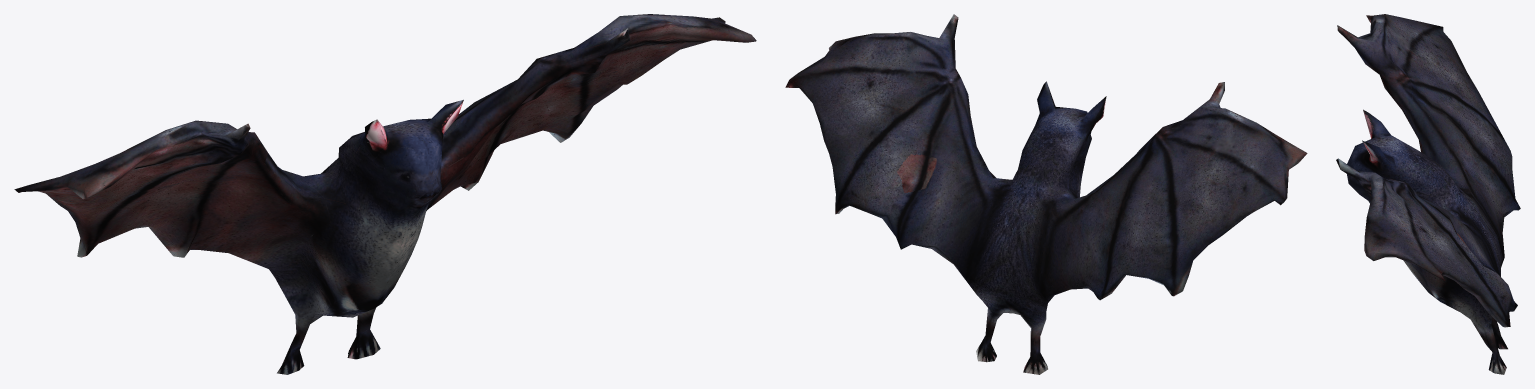
The model's file is uploads_files_5014825_Bat_Low_Poly.fbx.
The picture shows the model from 3 angles, left to right: view 1: azimuth 30°, elevation 25°; view 2: azimuth 150°, elevation 25°; view 3: azimuth 270°, elevation 25°; orthographic projection. The views are drawn at different scales.
Parts seen in each view (by area): view 1: Bat_Low_Poly; view 2: Bat_Low_Poly; view 3: Bat_Low_Poly.
Part boxes in pixels (x1,y1,x2,y2): Bat_Low_Poly: (14,14,756,374); Bat_Low_Poly: (785,14,1307,374); Bat_Low_Poly: (1336,14,1520,374).
Size of the model in its own units: 23.13 by 11.66 by 7.25.
